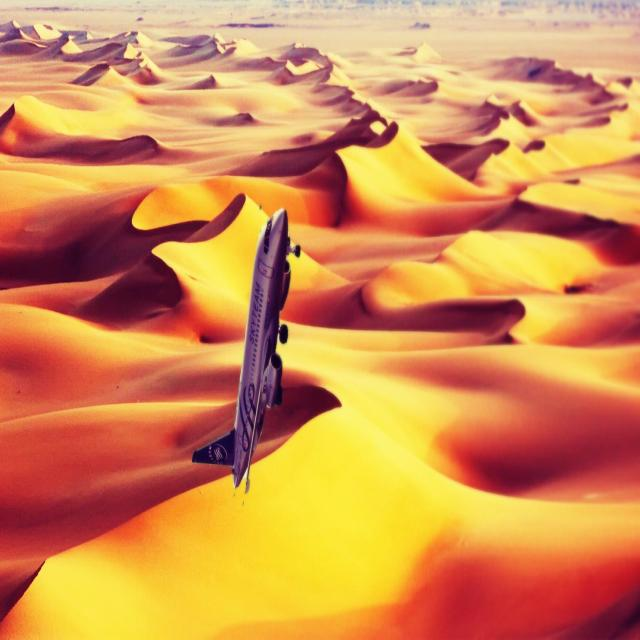airplane: (190, 207, 302, 498)
